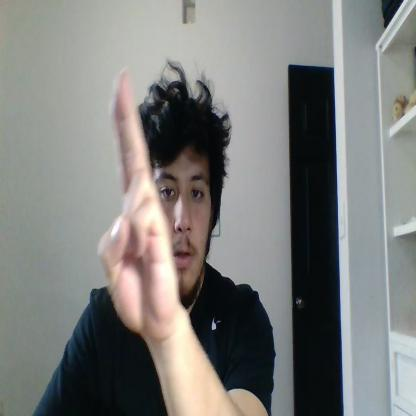U: (98, 70, 180, 334)
